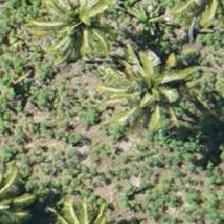coconut_tree: (104, 44, 194, 134), (53, 0, 143, 58)
